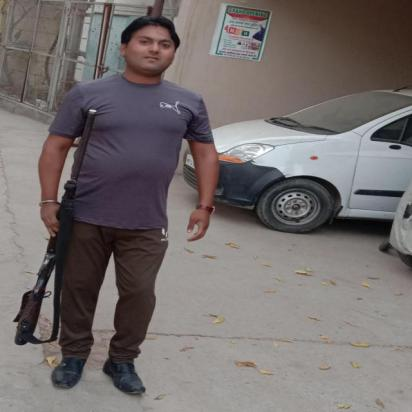Gun: (3, 106, 105, 352)
